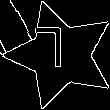L_S: (45, 30, 77, 80)
